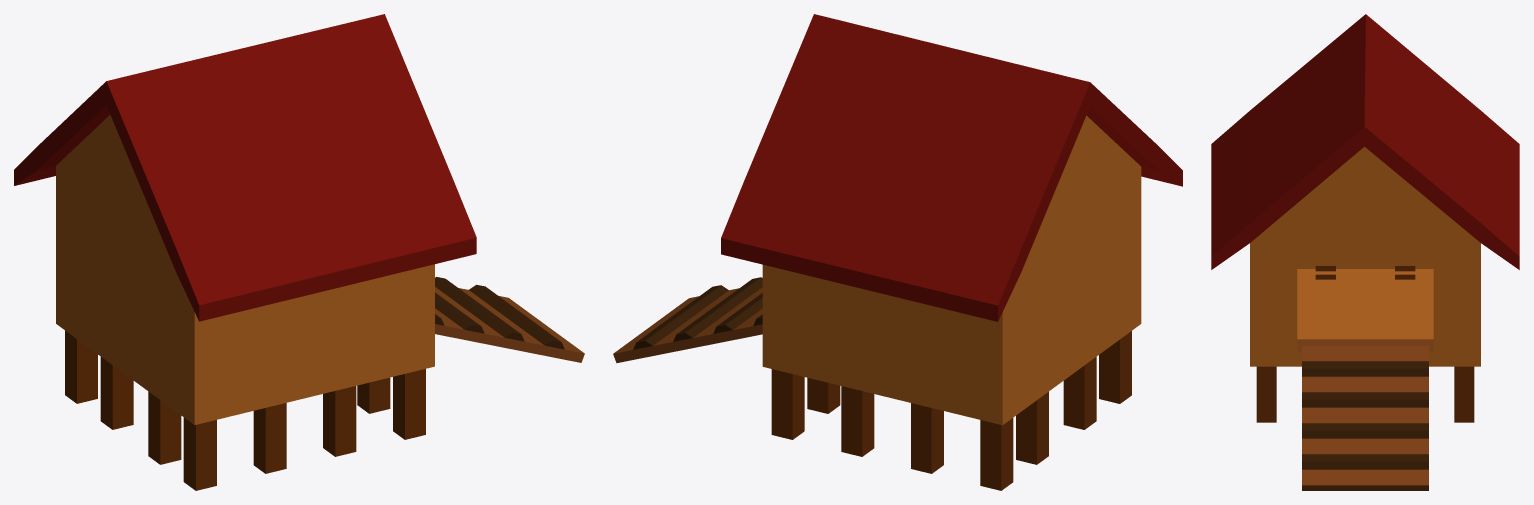
Rendered from DuckHouse.fbx.
The picture shows the model from 3 angles, left to right: view 1: azimuth 30°, elevation 25°; view 2: azimuth 150°, elevation 25°; view 3: azimuth 270°, elevation 25°; orthographic projection. The views are drawn at different scales.
Parts seen in each view (by area): view 1: Cube.002; view 2: Cube.002; view 3: Cube.002.
Part boxes in pixels (x1,y1,x2,y2): Cube.002: (14,14,584,490); Cube.002: (613,14,1182,490); Cube.002: (1211,14,1519,490).
Size of the model in its own units: 584 by 466 by 426.
